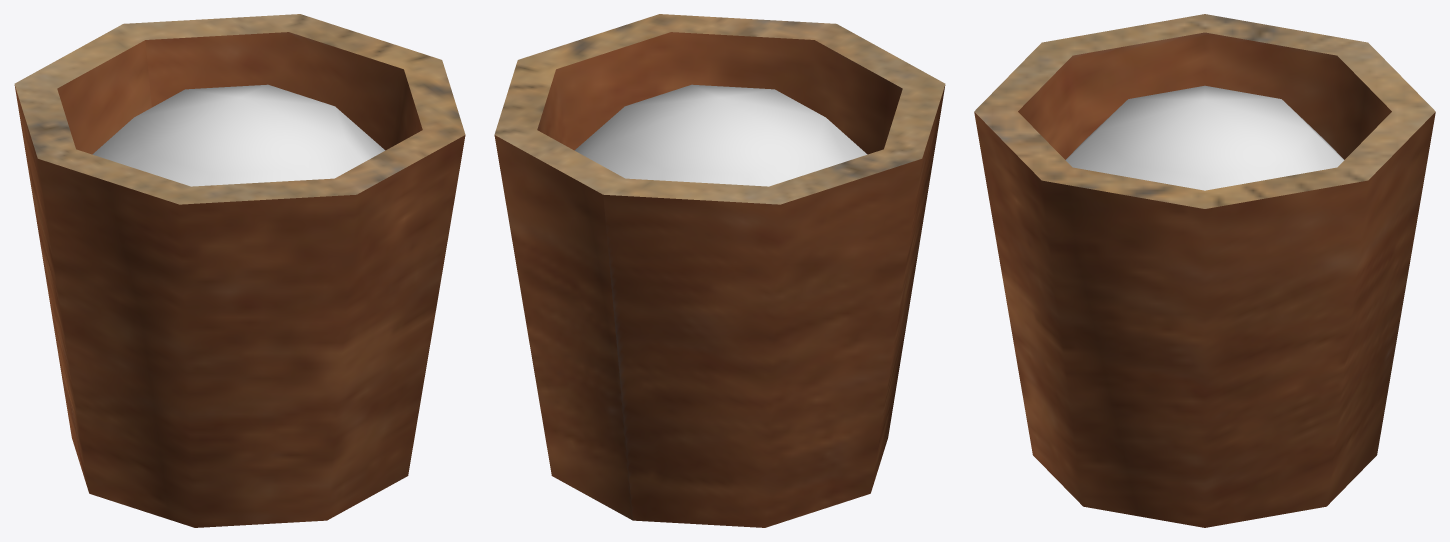
File: usu.fbx
3 views of the same model, side by side, from view 1: azimuth 30°, elevation 25°; view 2: azimuth 150°, elevation 25°; view 3: azimuth 270°, elevation 25° (orthographic).
Parts seen in each view (by area): view 1: usu; view 2: usu; view 3: usu.
Boxes of the visible parts, x1,y1,x2,y2 form: usu: (14,14,465,527); usu: (494,14,945,527); usu: (974,14,1435,527).
Size of the model in its own units: 75.15 by 63.75 by 75.15.
